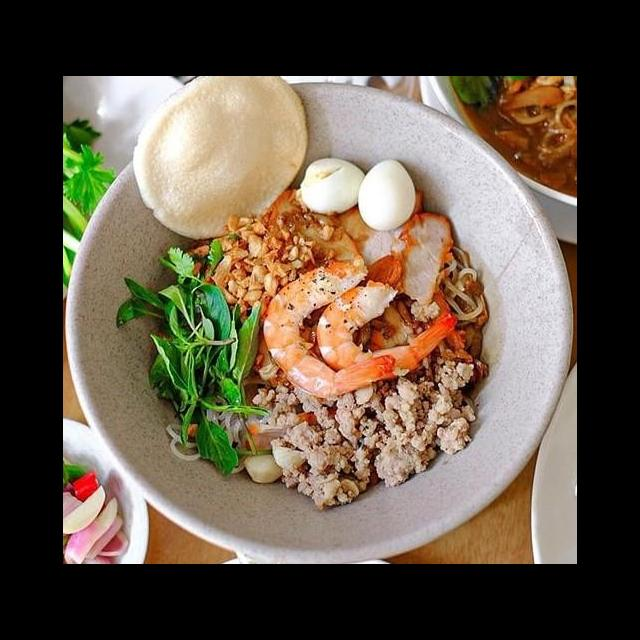hu tieu: (163, 389, 276, 476), (434, 242, 496, 326)
thit bam: (243, 353, 483, 513)
thit heo: (331, 184, 430, 289), (258, 185, 368, 273), (383, 207, 457, 307)
tom: (260, 252, 404, 402), (311, 276, 460, 383)
trung: (354, 154, 423, 234), (293, 155, 374, 218)
